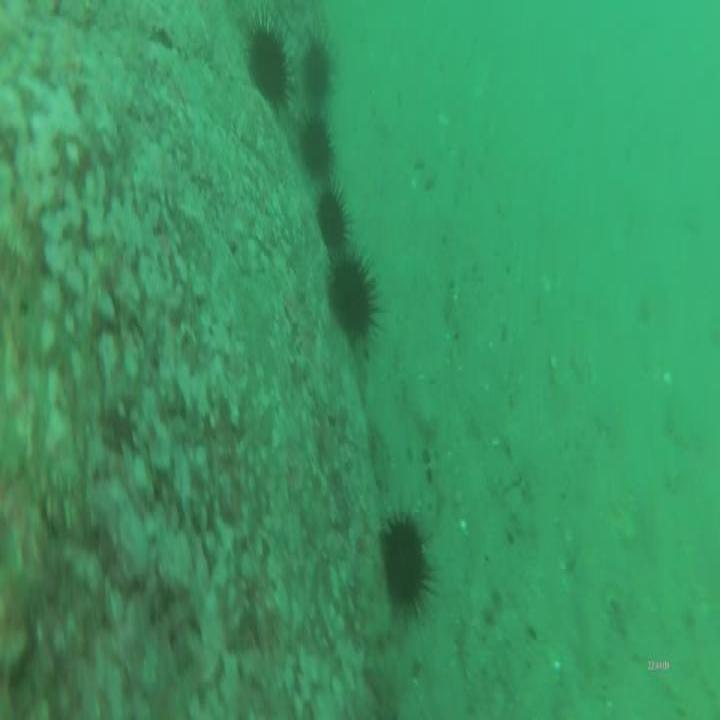echinus: (379, 503, 440, 621), (323, 244, 381, 354), (240, 9, 295, 115), (296, 103, 339, 189), (297, 28, 336, 112), (310, 181, 353, 251)
holothurian: (348, 523, 398, 716)
